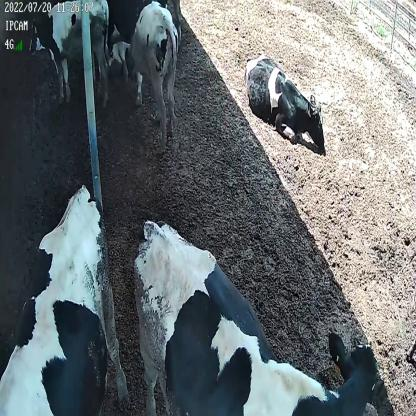cow: (132, 216, 380, 416), (30, 0, 112, 112), (241, 51, 328, 156)
